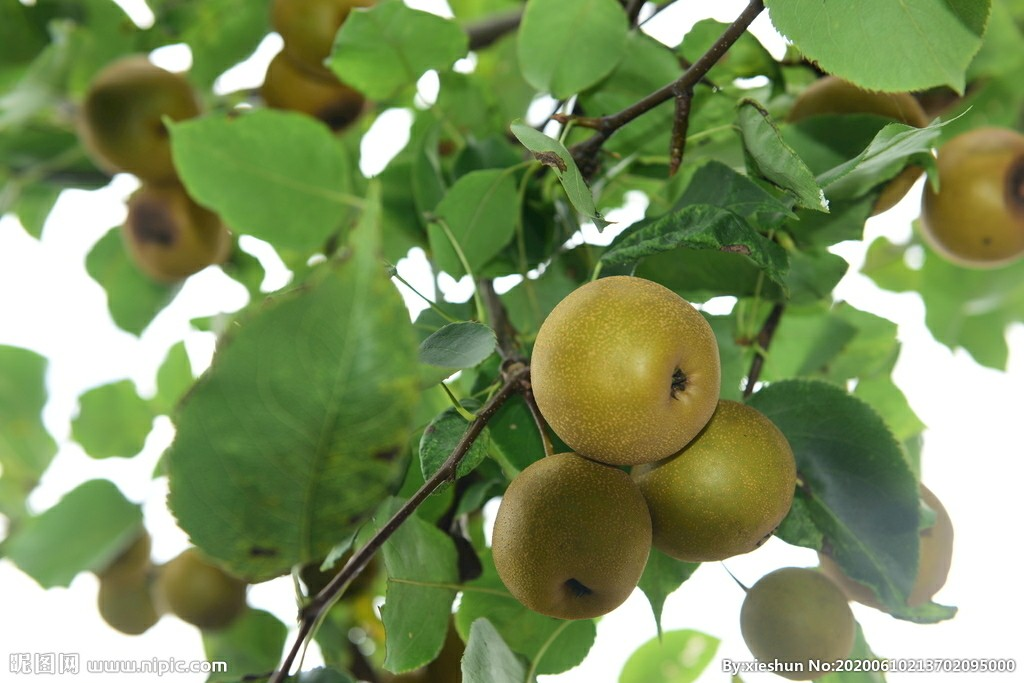pear: (529, 273, 721, 465), (491, 452, 652, 620), (630, 399, 794, 563), (780, 73, 923, 222), (813, 481, 956, 609), (75, 56, 204, 182), (920, 123, 1024, 266), (742, 570, 860, 680), (119, 186, 221, 280)
